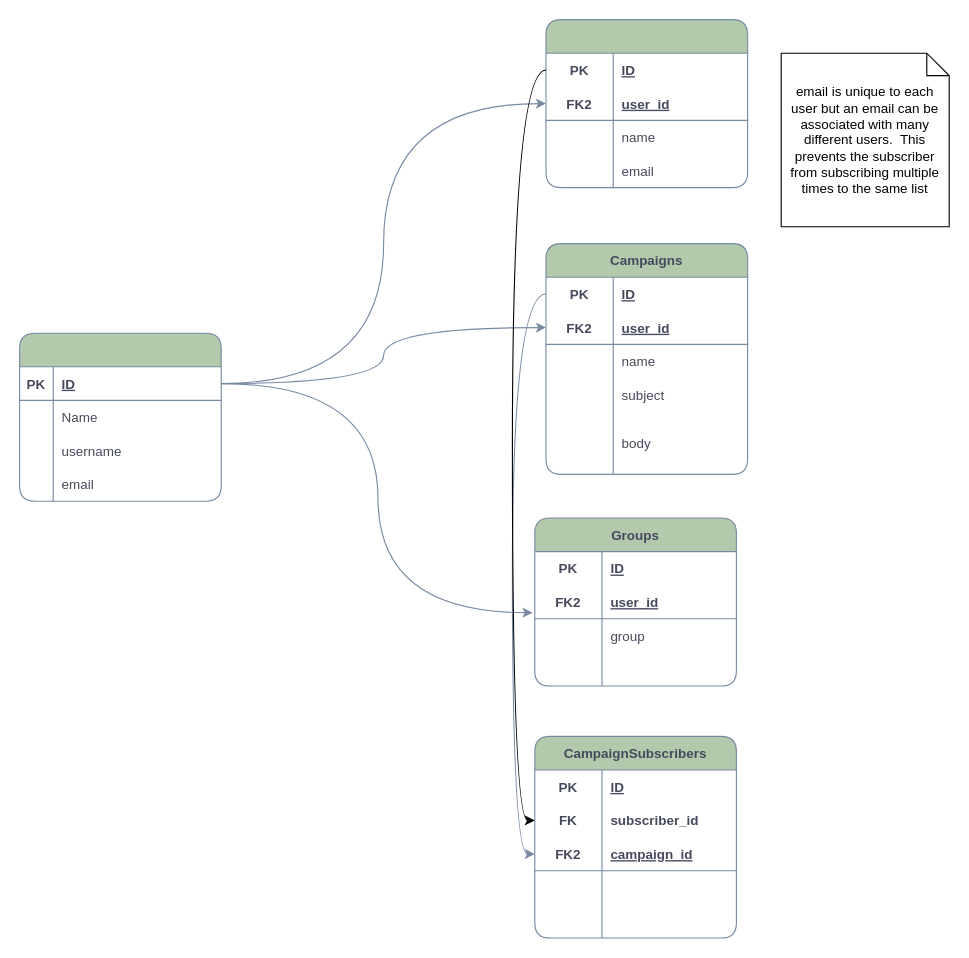
Image size: 969x958. Some labels were removed from this diagram. Here are the shapes that lost their labels. From the top down, the box of each, then its label:
(545, 18, 748, 188): Subscribers
(18, 332, 221, 501): Users
